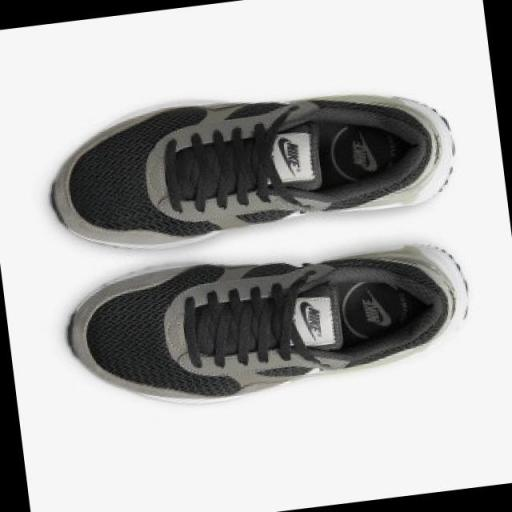Nike: (284, 140, 302, 168), (298, 300, 310, 330)
